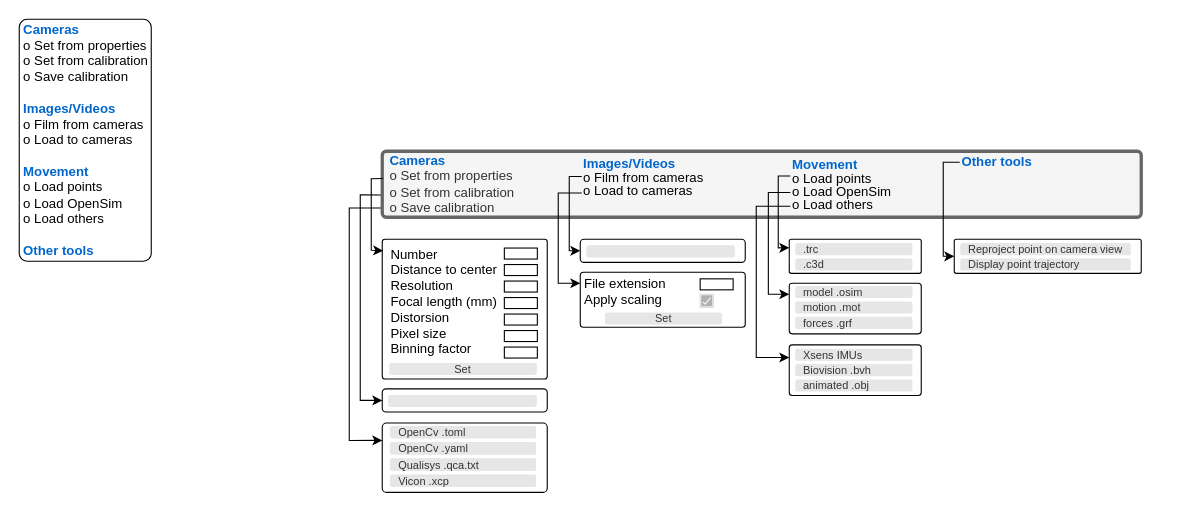
This 1183x513 diagram has some shape labels left out. The shapes that lost their labels are listed below. From the top down, each one's centre as x and y in pixels, then its label:
the point at 662,250: Film
the point at 464,400: Browse
